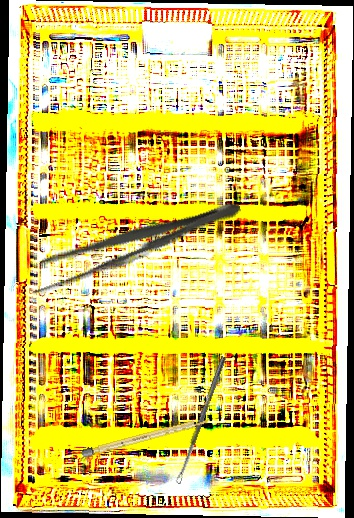Dressing Forceps: (22, 187, 246, 301)
Scalpel Handle: (81, 416, 210, 458)
Surgical Spoon: (174, 355, 227, 485)
